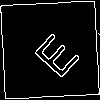E: (25, 25, 82, 81)
